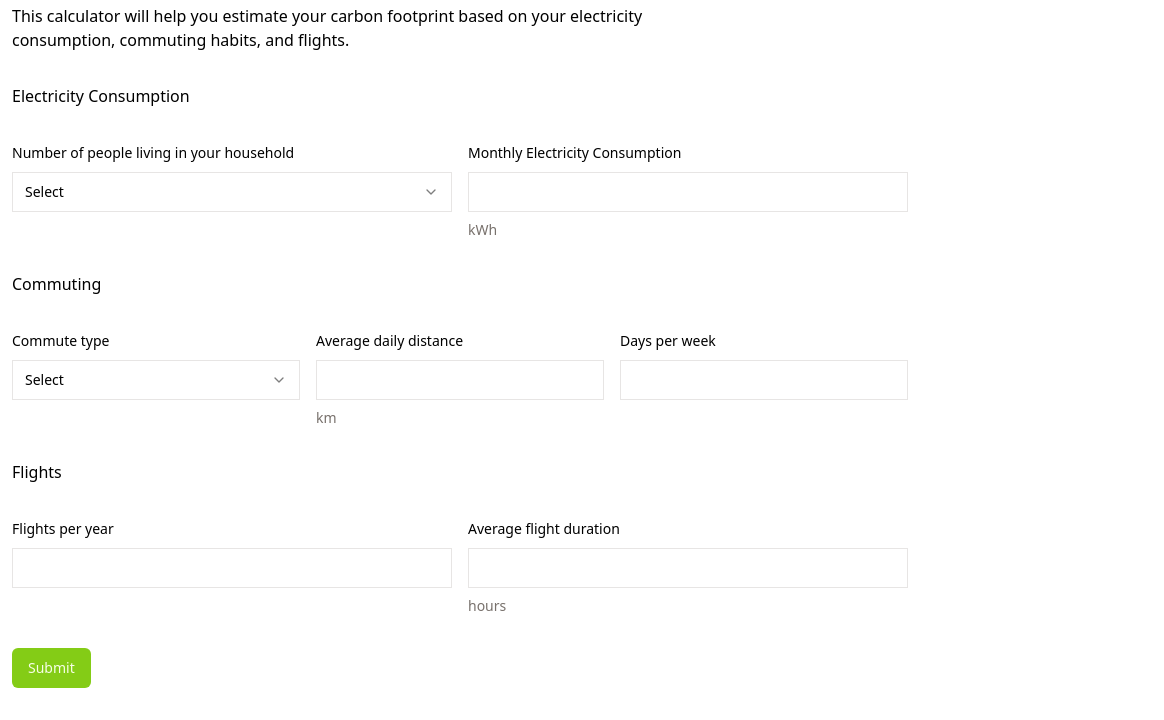
Test case: Home › should render error messages when form is submitted with empty fields
(page scrolled)
Click the button "Submit": (51, 668) [12, 648, 91, 688]
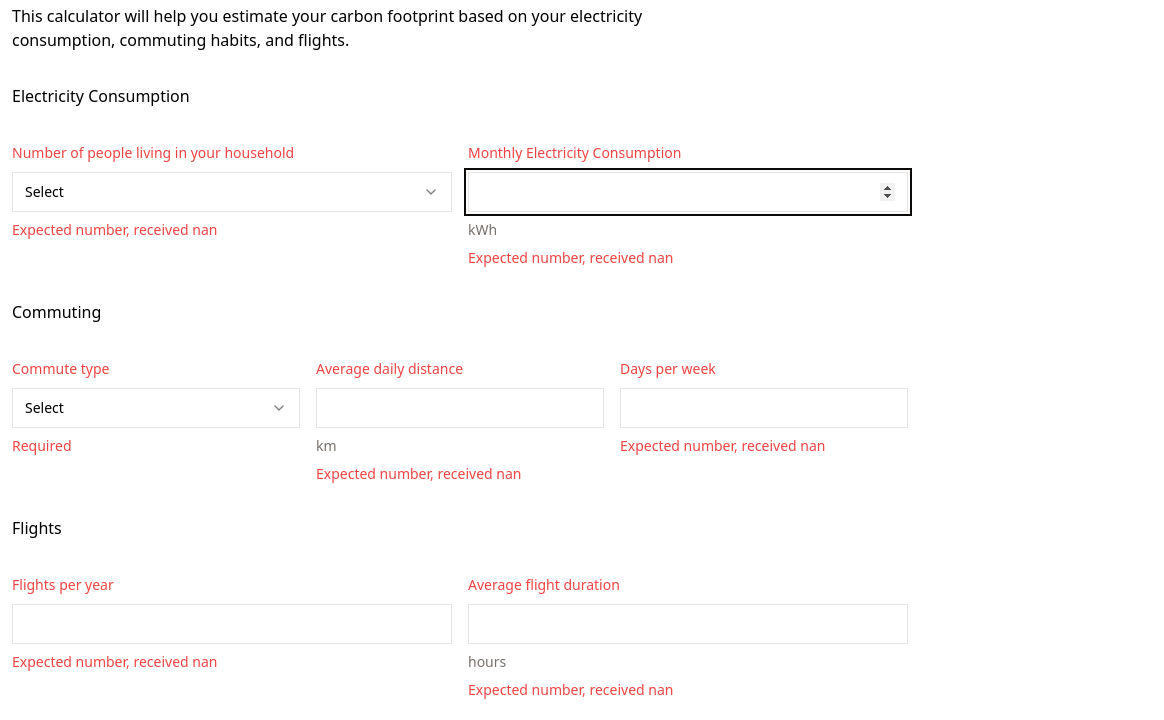
Now the text "Expected number, received nan" is shown 6 times, box [12, 220, 218, 239]; [468, 248, 674, 267]; [316, 464, 522, 483]; [620, 436, 826, 455]; [12, 652, 218, 671]; [468, 680, 674, 699]
